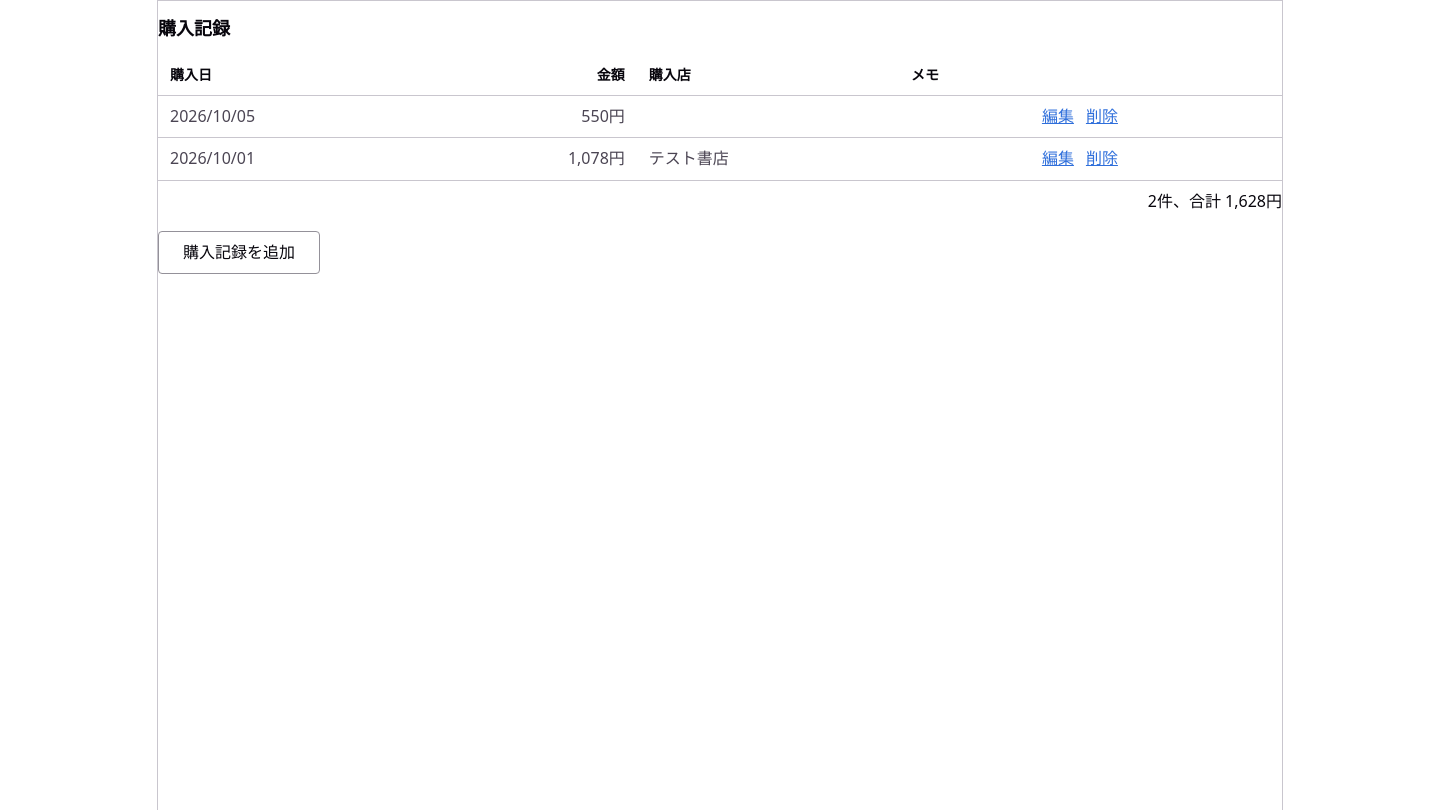
PurchasesSection › 編集 › 行の「編集」で、その購入記録の値を入れたフォームを開く
What coordinates should you click on to do the following:
click the button with aria-label "2026/10/01 の購入記録を編集"
I would click on:
 (1058, 159)
Its box is [1042, 146, 1074, 172].
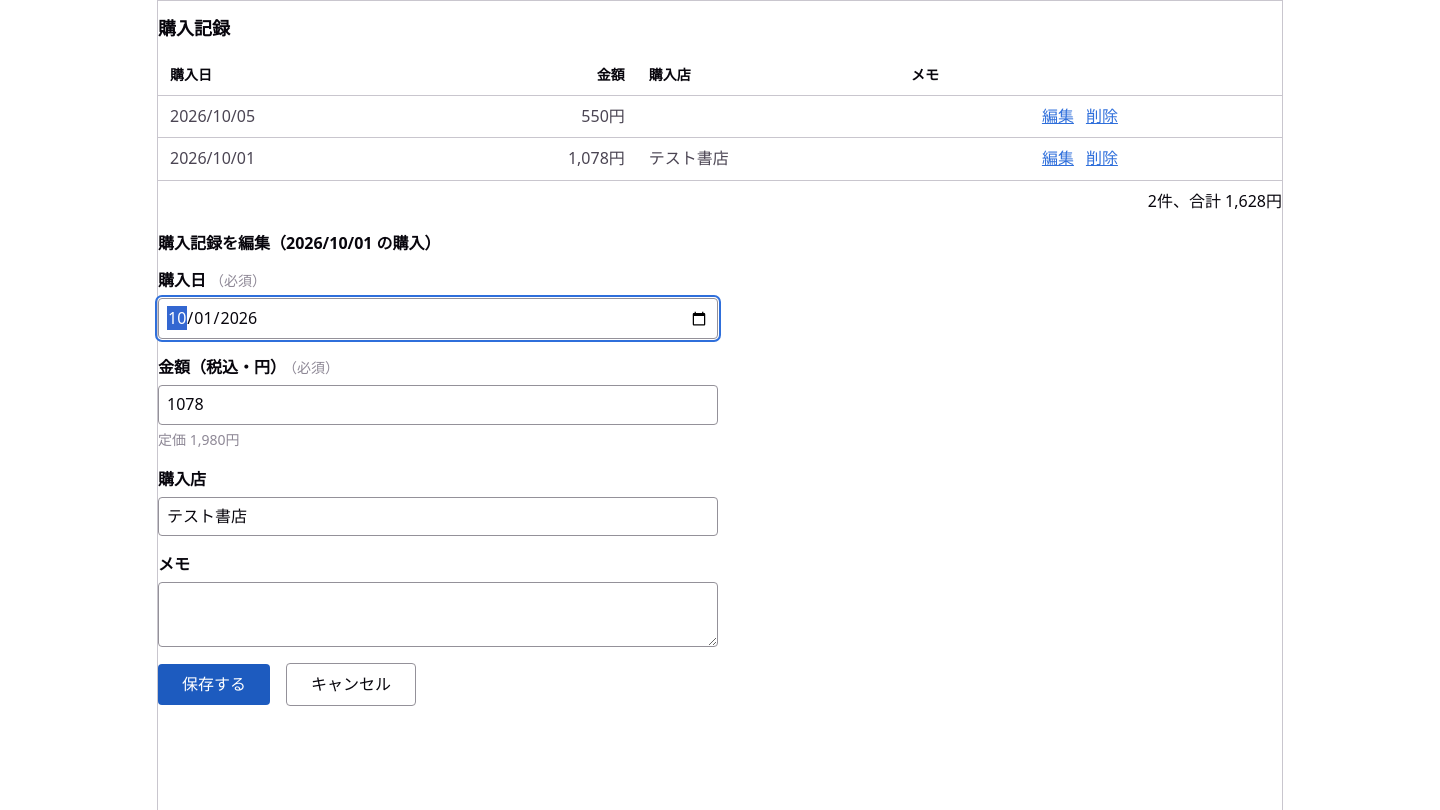
Now the heading "購入記録を編集（2026/10/01 の購入）" is shown, box [158, 232, 441, 254]
Now the date field labelled "購入日（必須）" holds "2026-10-01", box [158, 298, 718, 339]
Now the field labelled "金額（税込・円）（必須）" holds "1078", box [158, 385, 718, 424]
